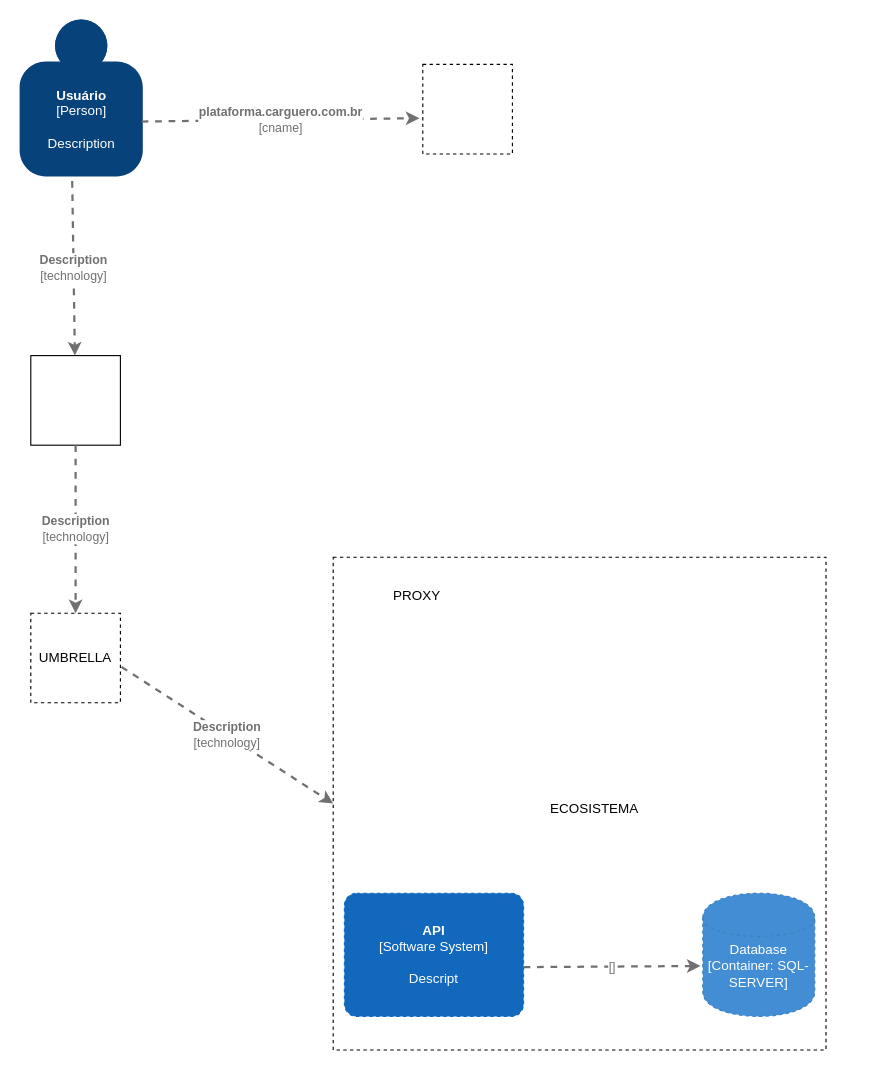
Some shapes in this 878 by 1070 pixel diagram are drawn without their labels. Here are the shapes that lost their labels. From the top down, the centre of each, then its label:
pixel 467 108: DNS
pixel 75 399: WAF
